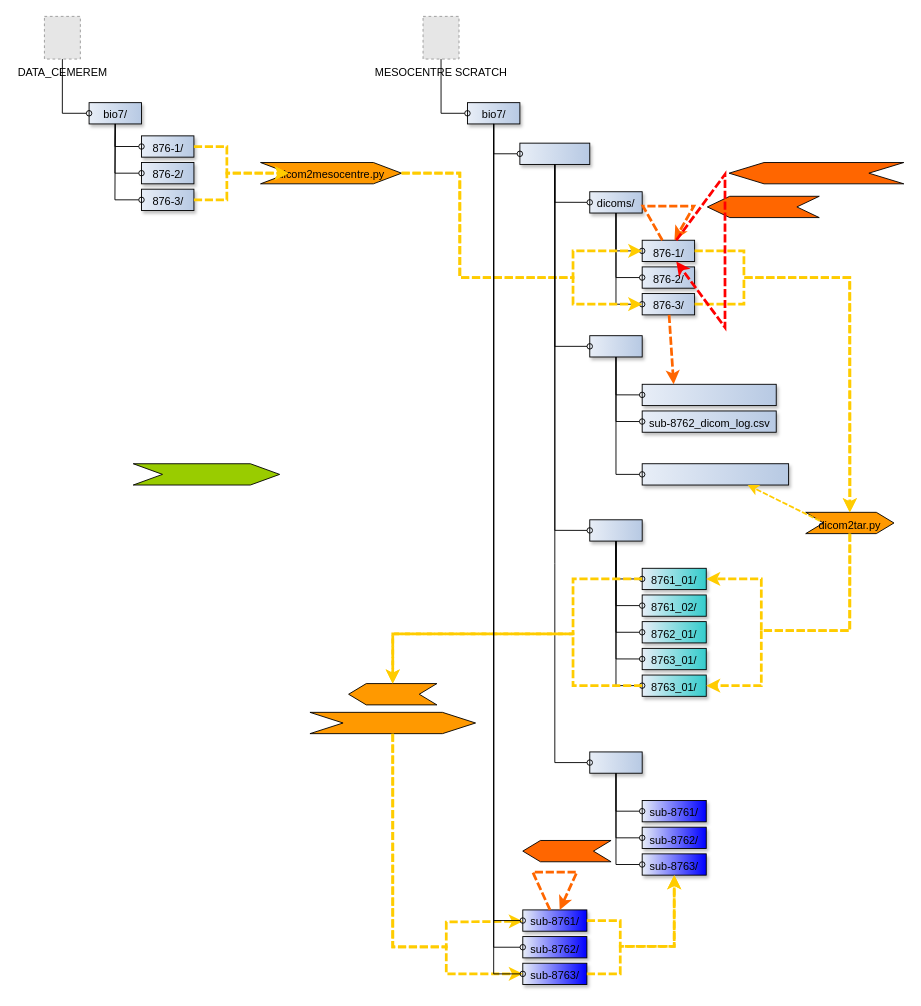
The diagram is 921 pixels wide and 1006 high, and some of its shapes have lost their labels. Grey dashed boxes stand in for pictures. The shapes that lost their labels are listed below. From the top down, each one's centre as x and y in pixels, then its label:
At pixel 555 155: "sourcedata/".
At pixel 816 173: "dicom_editor_extrascript,py".
At pixel 762 206: "dicom_editor,py".
At pixel 616 347: "logs/".
At pixel 710 396: "sub-8761_dicom_log.csv".
At pixel 206 474: "change_acces_rights.py".
At pixel 716 475: "sub-8761_dicom2tar_log.csv".
At pixel 616 531: "tarfiles/".
At pixel 392 694: "tar2bids.py".
At pixel 392 722: "bids_heuristic_file_bio7.py".
At pixel 616 763: "bids/".
At pixel 566 851: "json_editor,py".
